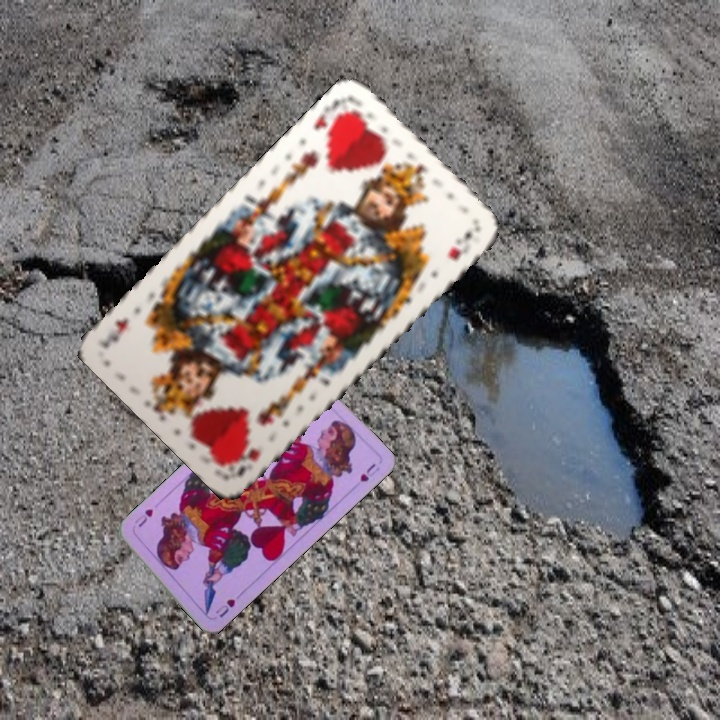HK: (310, 93, 357, 138), (227, 443, 264, 480)
HU: (211, 595, 238, 621)
